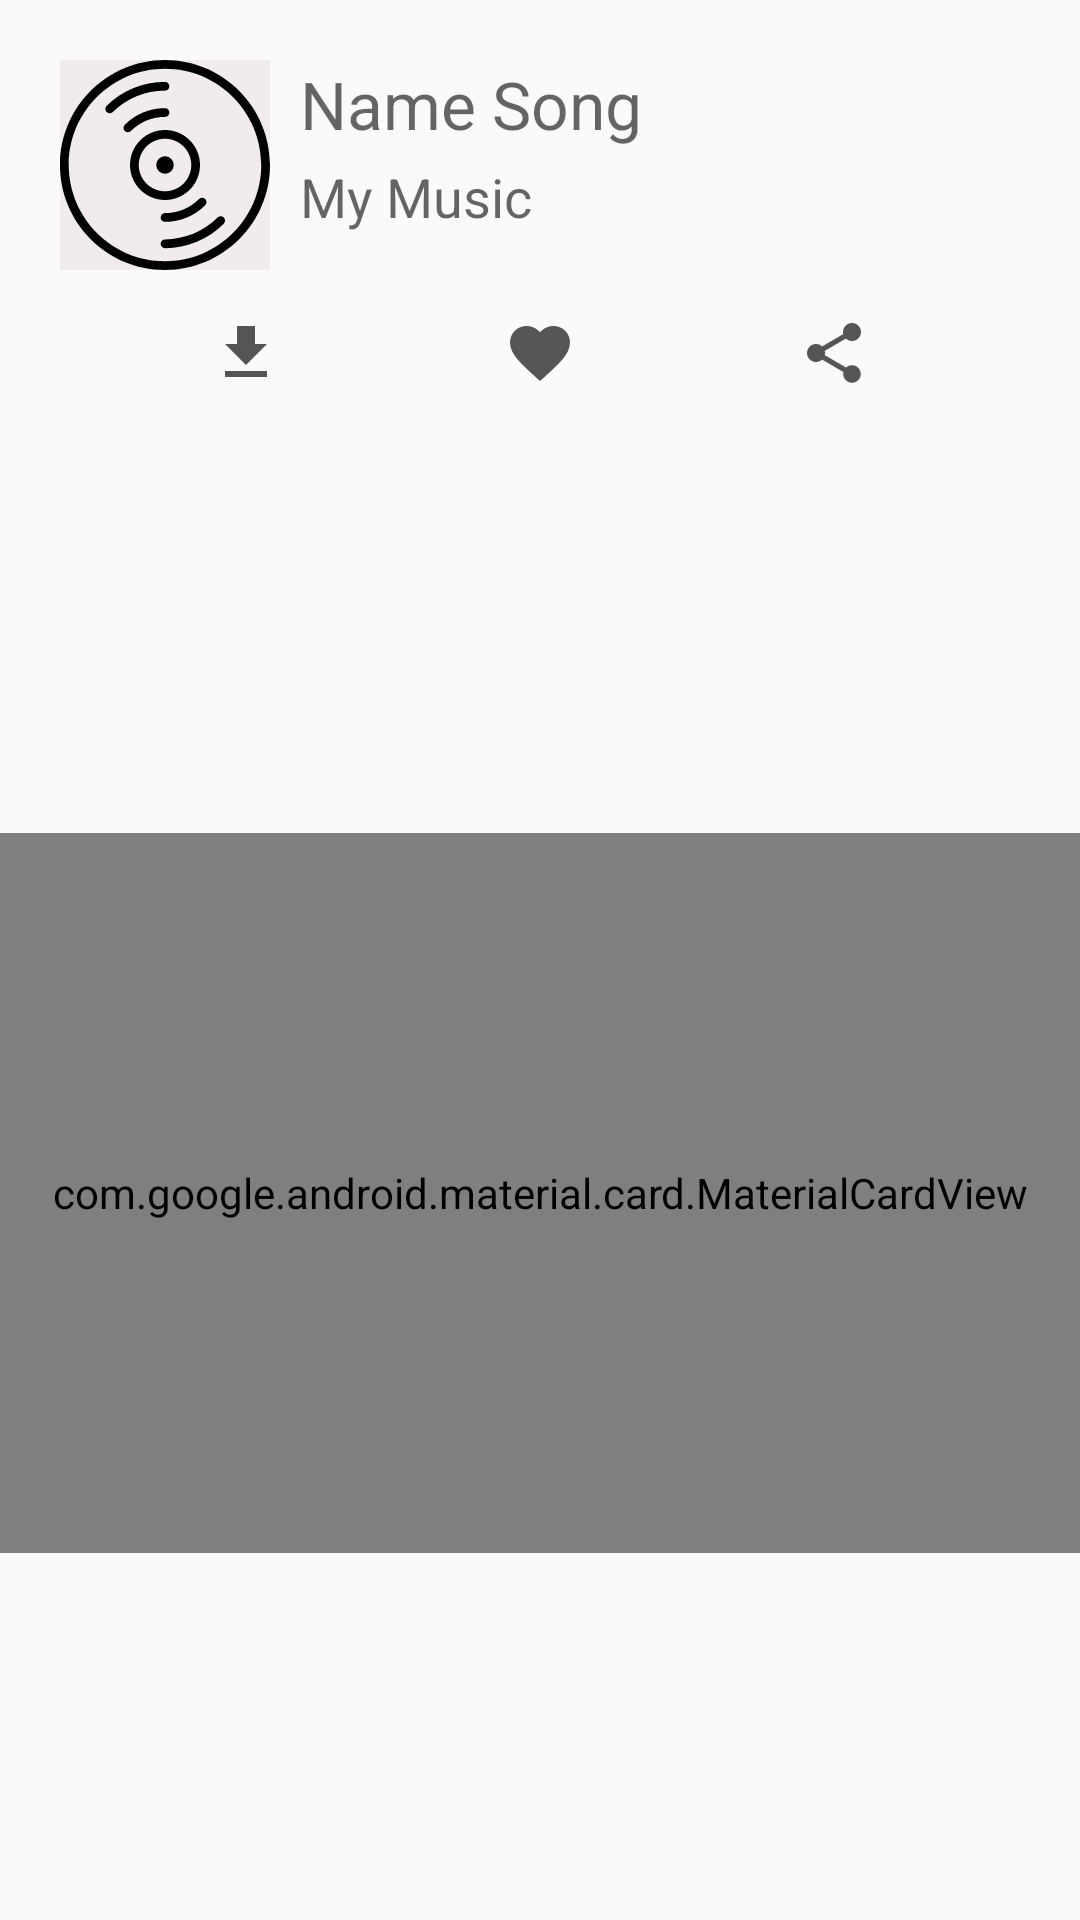

Screen size 1080×1920. Icon name, then its center in pixels as (x,y):
favorite: (540,353)
file download: (246,351)
share: (834,353)
